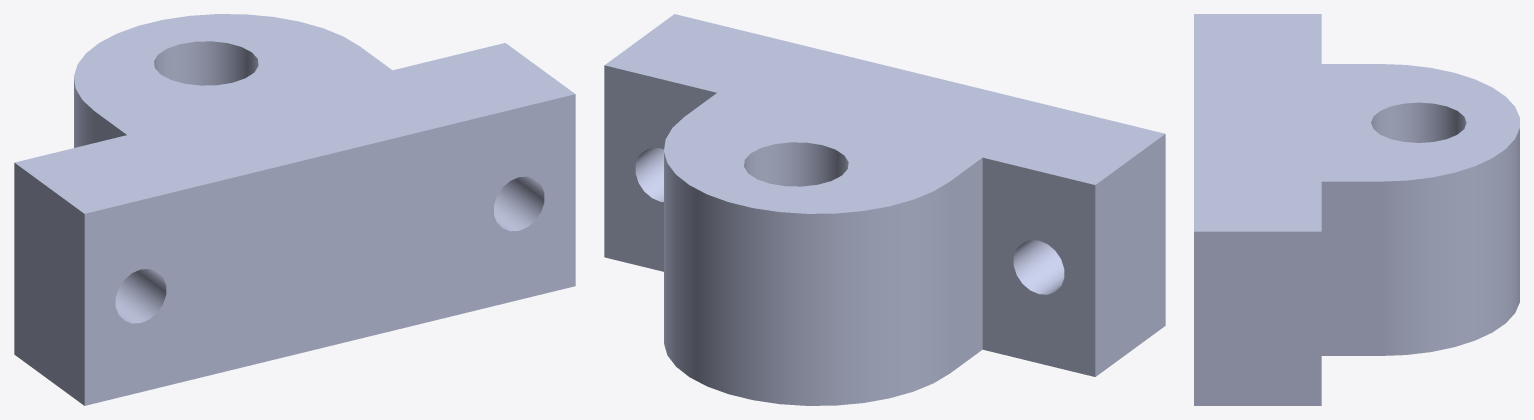
The model's file is lead_screw_support.FBX.
The picture shows the model from 3 angles, left to right: view 1: azimuth 30°, elevation 25°; view 2: azimuth 150°, elevation 25°; view 3: azimuth 270°, elevation 25°; orthographic projection. The views are drawn at different scales.
Parts seen in each view (by area): view 1: stitch_result_stitch all; view 2: stitch_result_stitch all; view 3: stitch_result_stitch all.
Boxes of the visible parts, <box> form: stitch_result_stitch all: <box>14,14,575,405</box>; stitch_result_stitch all: <box>604,14,1165,405</box>; stitch_result_stitch all: <box>1194,14,1519,405</box>.
Bounding box in the file's own units: 1.7 × 0.6343 × 1.07.
